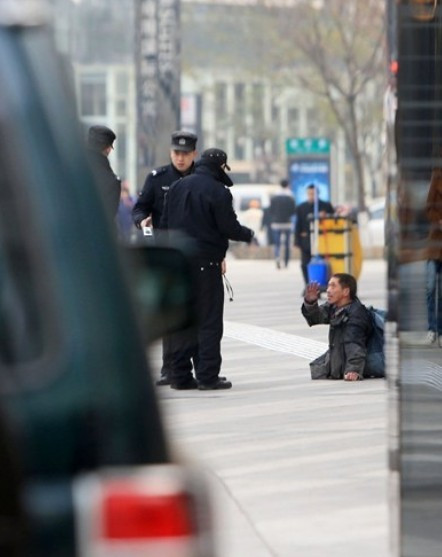fall: (292, 266, 392, 388)
